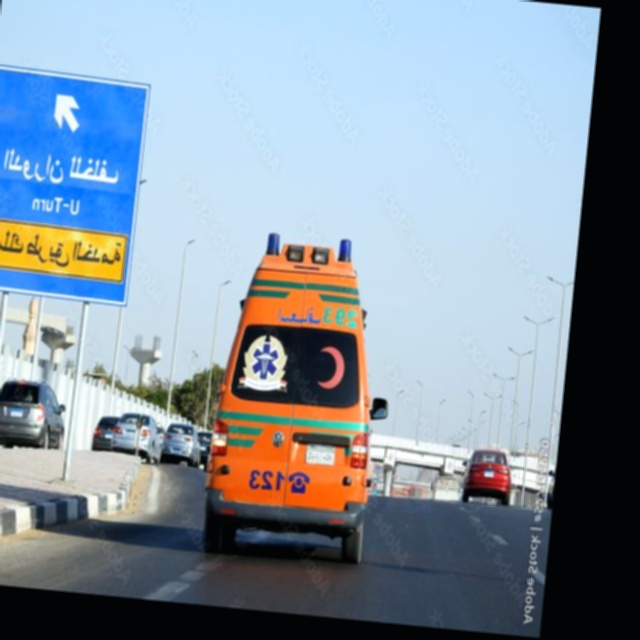Ambulance: (198, 226, 405, 568)
car: (0, 375, 69, 453), (461, 447, 515, 506), (110, 410, 165, 464), (160, 421, 204, 467), (92, 414, 121, 452), (194, 430, 213, 463)
